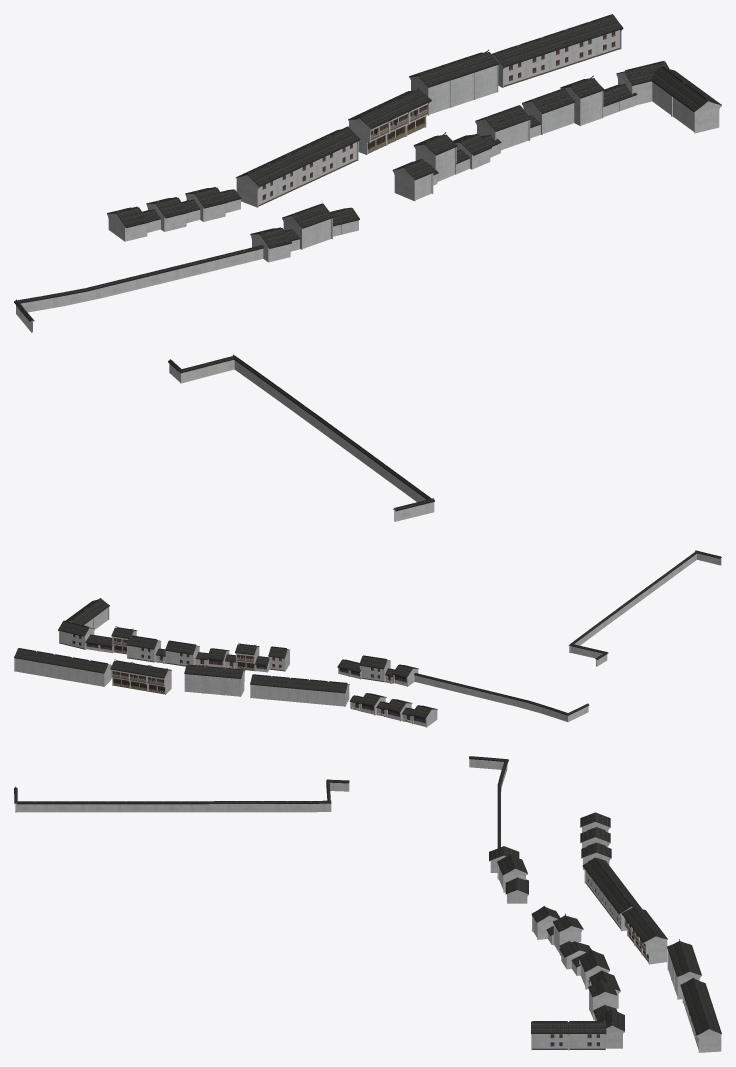
Rendered from Building_Street_All.FBX.
The picture shows the model from 3 angles, top to bottom: view 1: azimuth 30°, elevation 25°; view 2: azimuth 150°, elevation 25°; view 3: azimuth 270°, elevation 25°; orthographic projection. The views are drawn at different scales.
Visible parts, largest first — view 1: Building, Object023, Object030, Object035, Object010, Object005, Object021, Object033, Object026, Object002, Object003, Object013 (+11 smaller); view 2: Building, Object030, Object023, Object005, Object010, Object001, Object021, Object026, Object028, Object033, Object024, Object003 (+11 smaller); view 3: Building, Object023, Object030, Object034, Object035, Object024, Object003, Object001, Object002, Object021, Object010, Object013 (+3 smaller).
Part boxes in pixels (x1=…): Building: x1=14, y1=245, x2=434, y2=521; Object023: x1=491, y1=14, x2=623, y2=87; Object030: x1=235, y1=126, x2=360, y2=207; Object035: x1=671, y1=82, x2=721, y2=133; Object010: x1=475, y1=105, x2=530, y2=150; Object005: x1=522, y1=88, x2=575, y2=134; Object021: x1=282, y1=203, x2=333, y2=249; Object033: x1=107, y1=206, x2=160, y2=241; Object026: x1=348, y1=106, x2=391, y2=154; Object002: x1=560, y1=75, x2=604, y2=126; Object003: x1=413, y1=132, x2=457, y2=181; Object013: x1=392, y1=158, x2=433, y2=201; Building: x1=414, y1=550, x2=721, y2=721; Object030: x1=250, y1=674, x2=349, y2=706; Object023: x1=14, y1=648, x2=111, y2=686; Object005: x1=126, y1=635, x2=161, y2=662; Object010: x1=165, y1=640, x2=199, y2=666; Object001: x1=58, y1=620, x2=94, y2=649; Object021: x1=359, y1=655, x2=390, y2=682; Object026: x1=222, y1=667, x2=245, y2=696; Object028: x1=146, y1=665, x2=171, y2=694; Object033: x1=402, y1=705, x2=437, y2=727; Object024: x1=184, y1=663, x2=206, y2=693; Object003: x1=235, y1=642, x2=259, y2=671; Building: x1=14, y1=756, x2=508, y2=848; Object023: x1=680, y1=977, x2=721, y2=1052; Object030: x1=582, y1=857, x2=641, y2=931; Object034: x1=568, y1=1021, x2=606, y2=1050; Object035: x1=531, y1=1021, x2=568, y2=1050; Object024: x1=636, y1=924, x2=667, y2=964; Object003: x1=553, y1=913, x2=583, y2=952; Object001: x1=599, y1=1008, x2=624, y2=1048; Object002: x1=588, y1=979, x2=617, y2=1019; Object021: x1=497, y1=854, x2=527, y2=892; Object010: x1=578, y1=949, x2=609, y2=989; Object013: x1=531, y1=906, x2=560, y2=939.
Size of the model in its own units: 22006 by 1081 by 22965.
